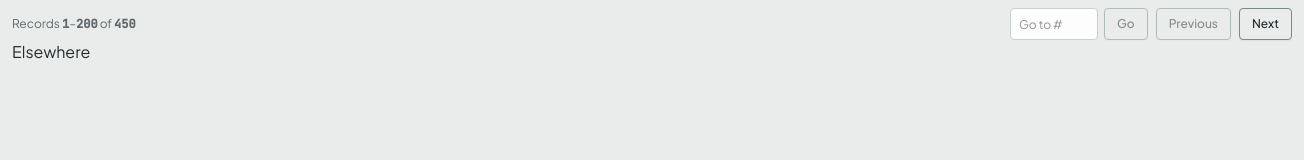
a press that makes its own button unusable lands on the next control (D1) › Go lands on the record-number field, which its own submit has emptied
In the field named "Go to record number": (1054, 24) [1010, 8, 1098, 40], type "250"
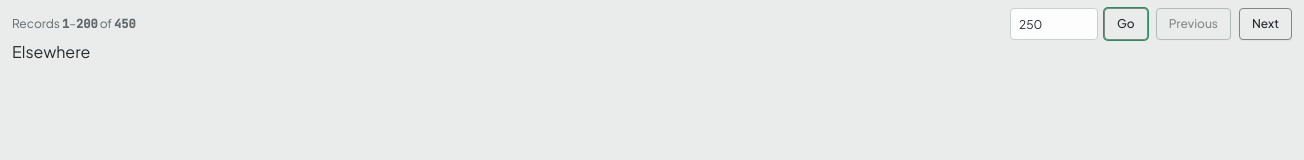
Click the button "Go": (1126, 24) [1104, 8, 1148, 40]
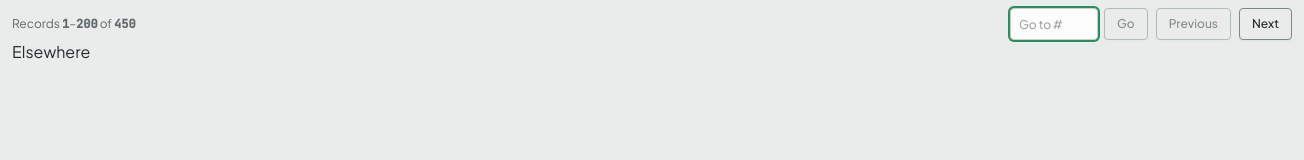
Now the button "Go" is disabled, box [1104, 8, 1148, 40]
